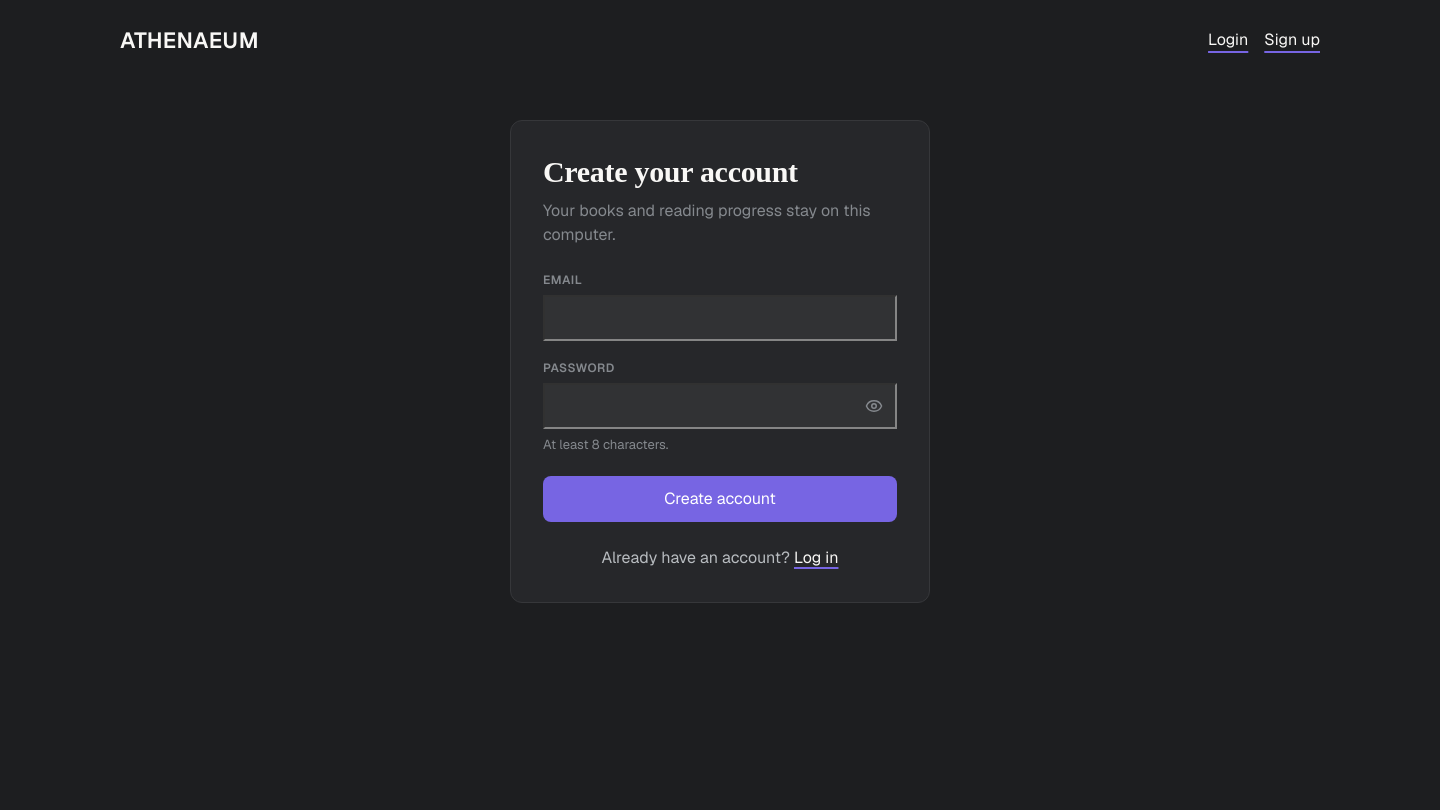
it: signup › shows a duplicate-email error from the server
Type "reader@example.com" into the field labelled "Email" at (720, 318), box [543, 294, 897, 340]
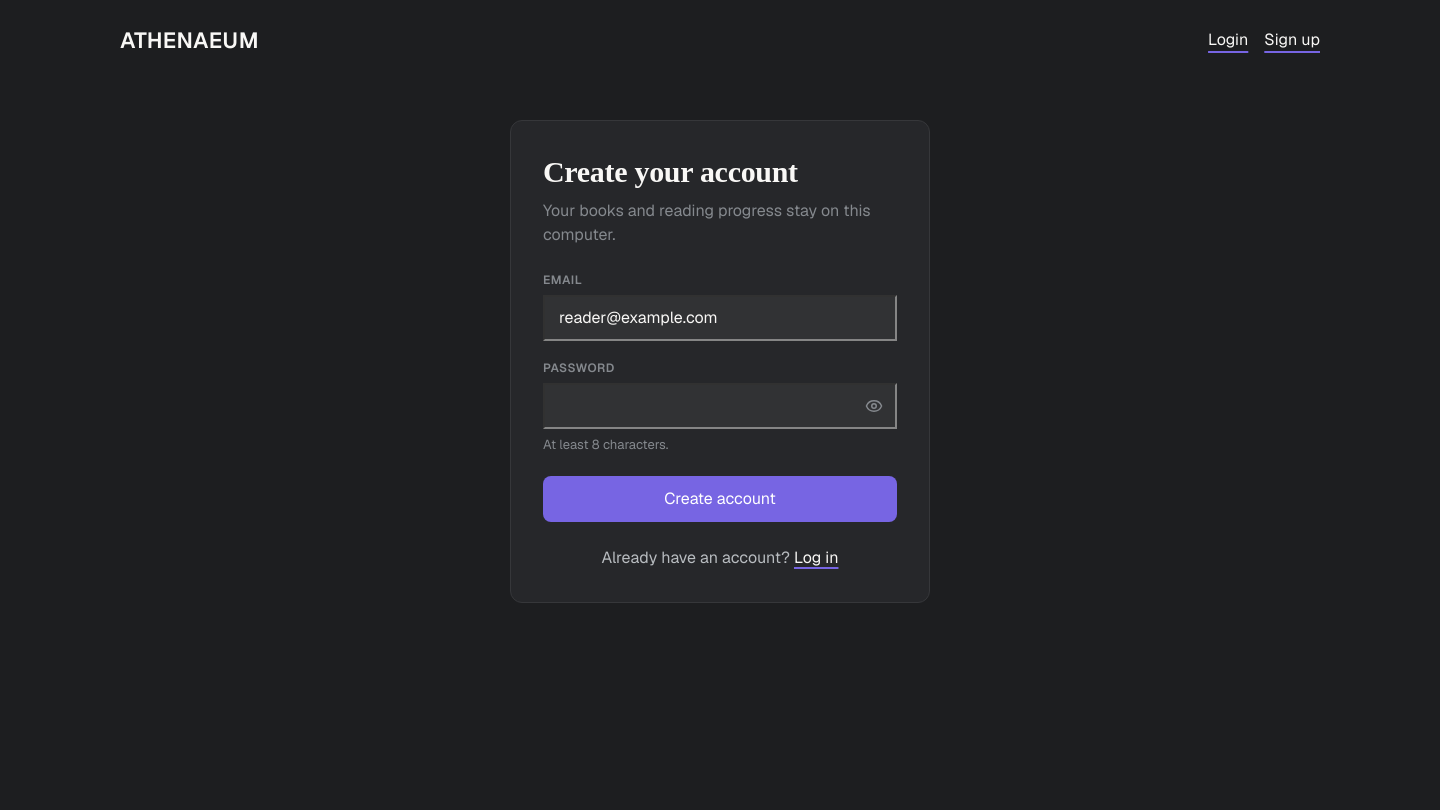
Type "long enough password" into the password field labelled "Password" at (720, 406), box [543, 382, 897, 428]
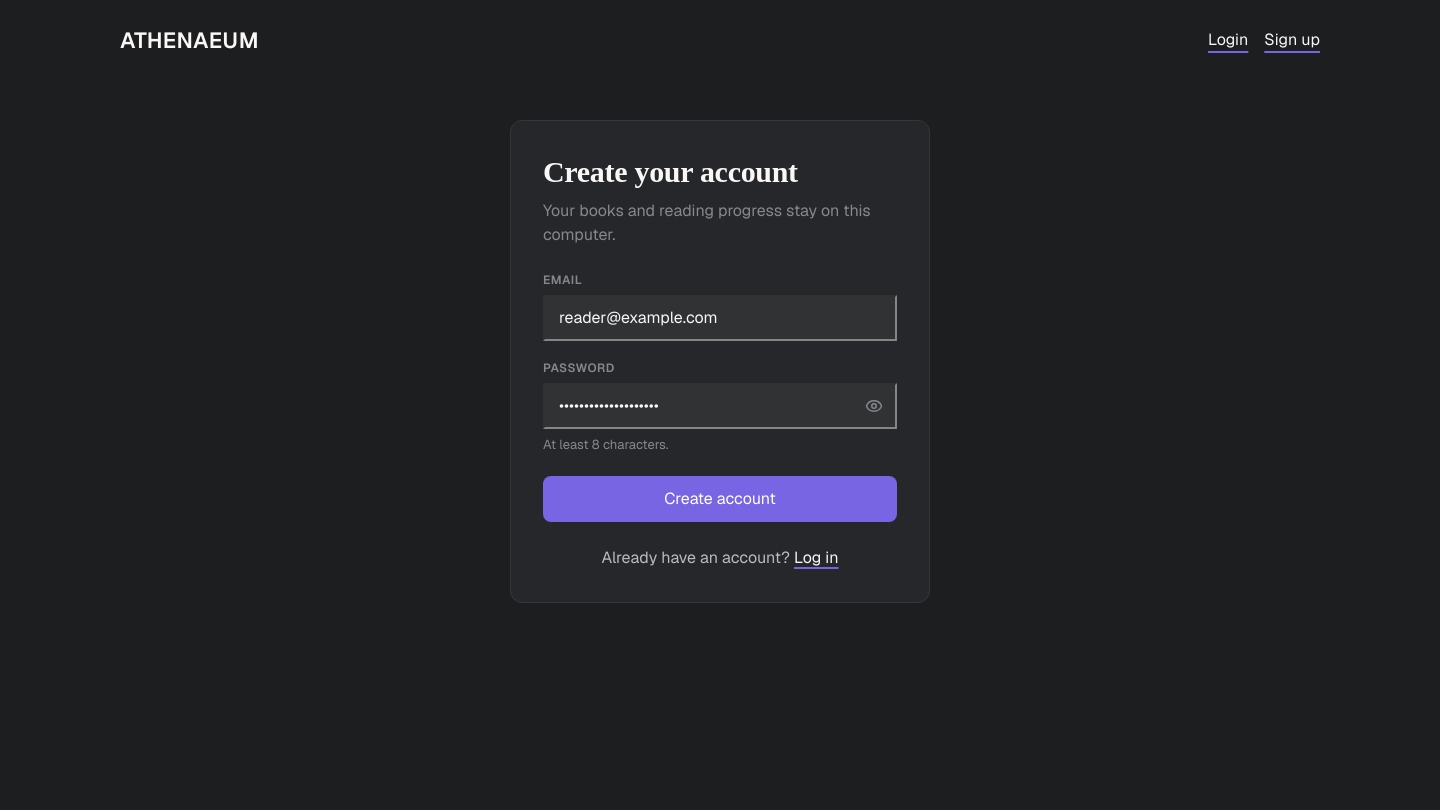
Click the button "Create account" at (720, 499), box [543, 476, 897, 522]
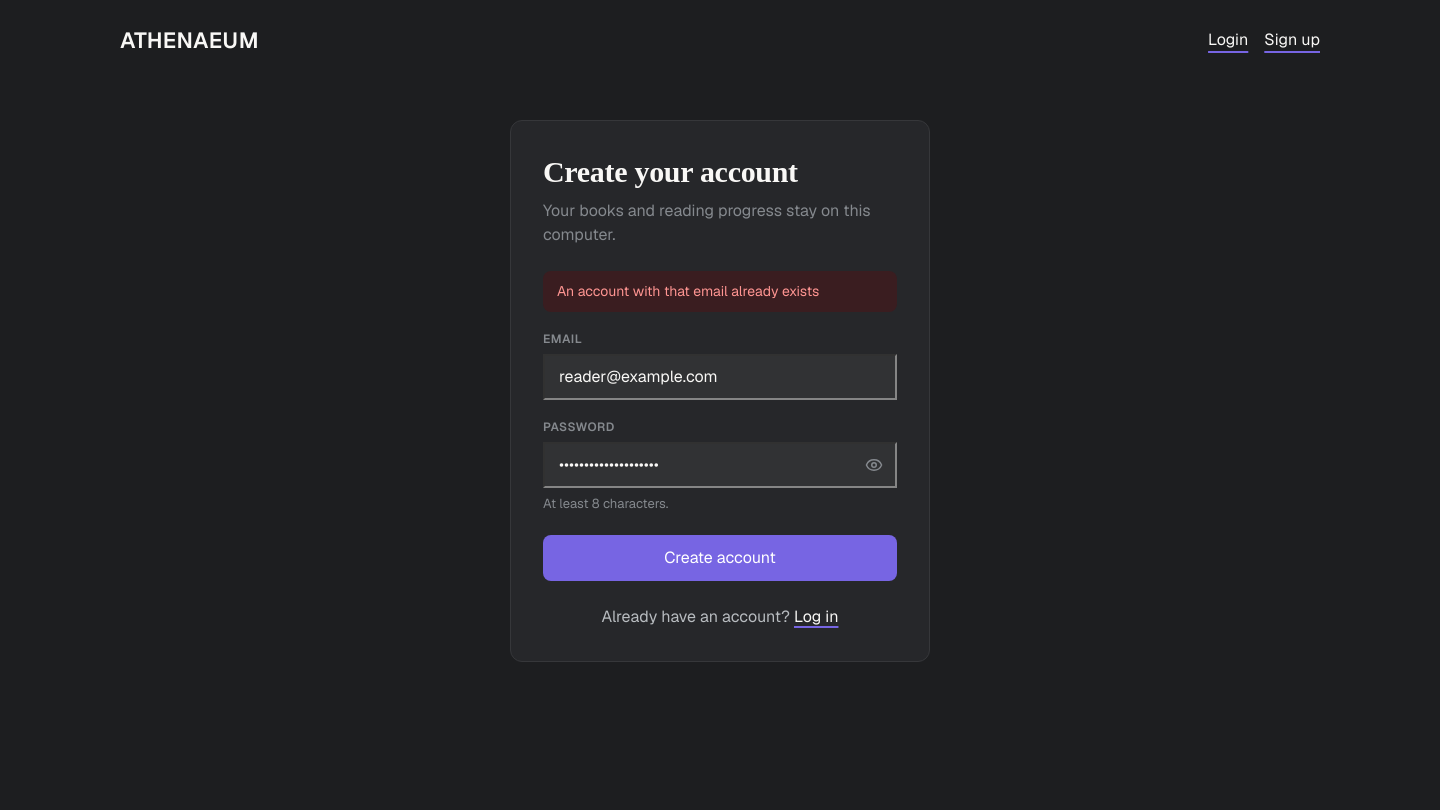
Expected: the message reads "An account with that email already exists", [557, 282, 819, 300]
